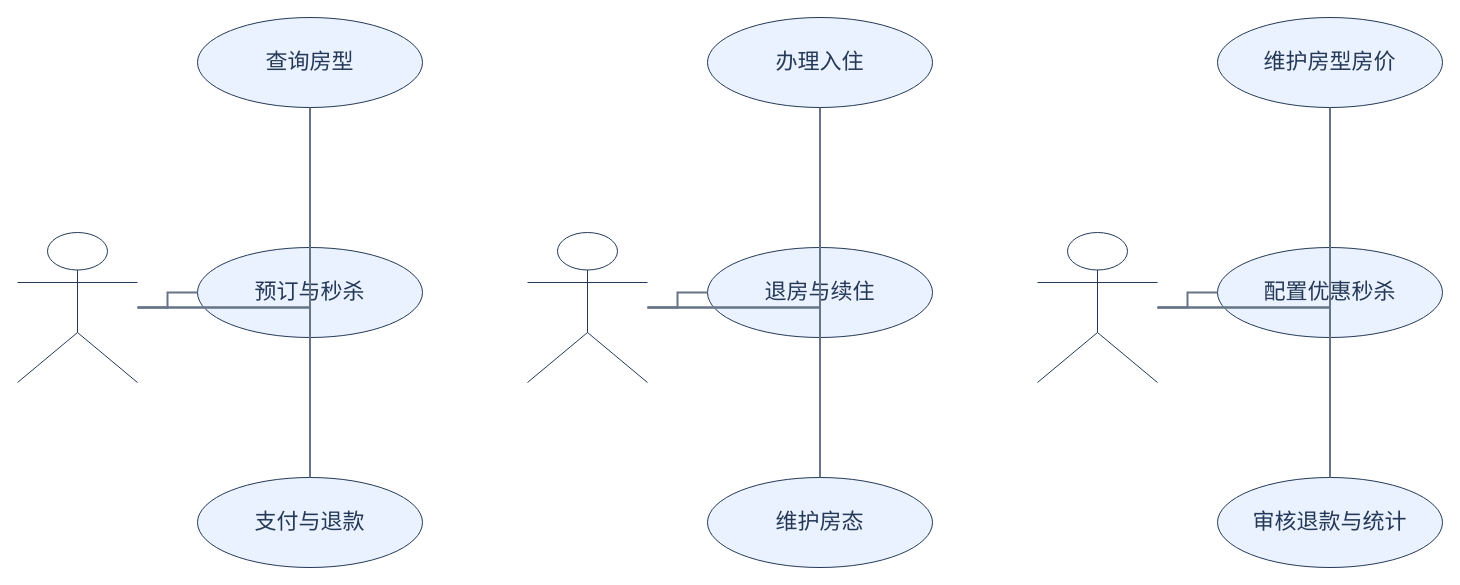
The diagram is 1460 pixels wide and 585 high, and some of its shapes have lost their labels. Here are the shapes that lost their labels. From the top down, the centre of each, then its label:
At point 77,307: "顾客".
At point 587,307: "员工".
At point 1097,307: "管理员".
